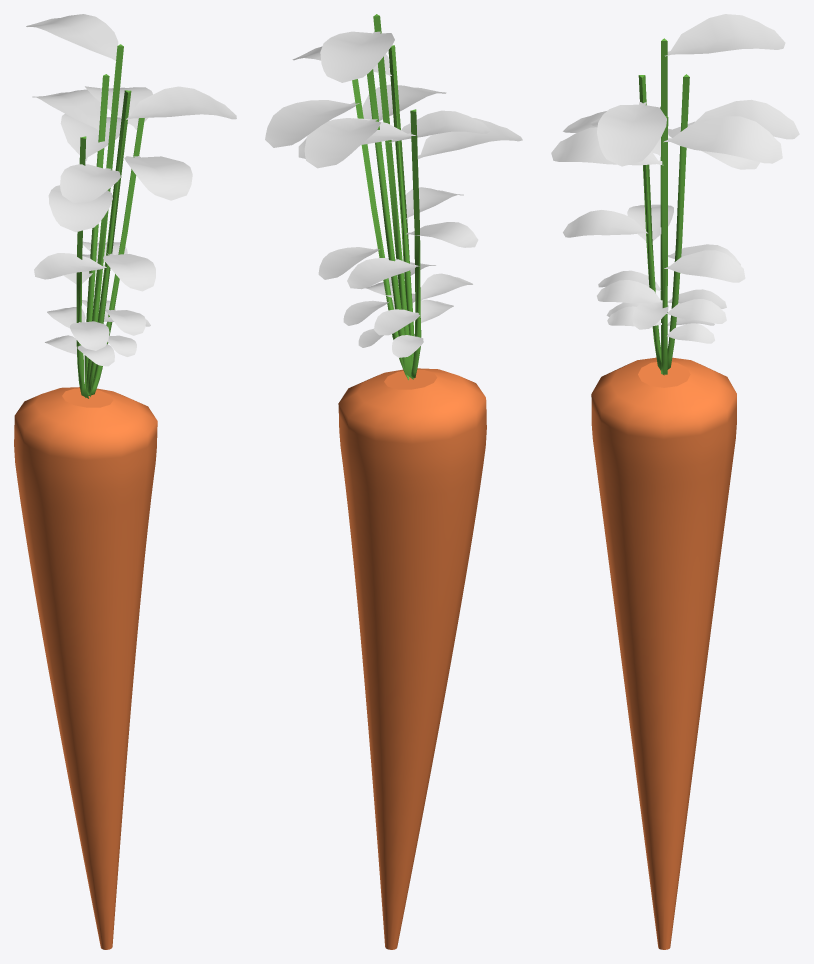
File: Carrot_S4.fbx
The picture shows the model from 3 angles, left to right: view 1: azimuth 30°, elevation 25°; view 2: azimuth 150°, elevation 25°; view 3: azimuth 270°, elevation 25°; orthographic projection. The views are drawn at different scales.
Visible parts, largest first — view 1: Carrot_S4; view 2: Carrot_S4; view 3: Carrot_S4.
Part boxes in pixels (<box>): Carrot_S4: <box>14,14,236,949</box>; Carrot_S4: <box>265,14,522,949</box>; Carrot_S4: <box>551,14,799,949</box>.
Size of the model in its own units: 0.5187 by 2.28 by 0.5596.
